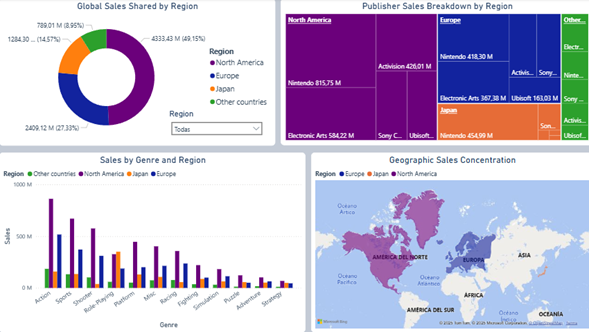

This screenshot's page, from the dashboard's own definition file:
{"tool":"powerbi","page":{"name":"Regional Breakdown","canvas":[1280,720],"ordinal":2},"visuals":[{"type":"treemap","title":"Publisher Sales Breakdown by Region","fields":{"Values":["Sum(2 video game sales.Valor)"],"Group":["2 video game sales.region"],"Details":["2 video game sales.publisher"]},"box":[609.5,12,655.8,304.7],"z":0},{"type":"filledMap","title":"Geographic Sales Concentration","fields":{"Category":["sales trends.region"],"Series":["sales trends.region"]},"box":[672.2,331.6,593,374.9],"z":1000},{"type":"donutChart","title":" Global Sales Shared by Region","fields":{"Y":["Sum(2 video game sales.sales)"],"Category":["2 video game sales.region"]},"box":[10.5,12,584.1,304.7],"z":2000},{"type":"slicer","title":"Region","fields":{"Values":["2 video game sales.region"]},"box":[385.4,249.5,209.1,67.2],"z":3000},{"type":"clusteredColumnChart","title":"Sales by Genre and Region","fields":{"Category":["2 video game sales.genre"],"Y":["Sum(2 video game sales.Valor)"],"Series":["2 video game sales.region"]},"box":[10.5,331.6,649.8,374.9],"z":4000}]}

Visuals, with their boxes in screenshot pixels (x1, y1, x2, y2), scaled from the page's 1280x720 canvas onto the 589x332 screenshot:
"Publisher Sales Breakdown by Region" treemap: 280/6/582/146
"Geographic Sales Concentration" filledMap: 309/153/582/326
" Global Sales Shared by Region" donutChart: 5/6/274/146
"Region" slicer: 177/115/274/146
"Sales by Genre and Region" clusteredColumnChart: 5/153/304/326
